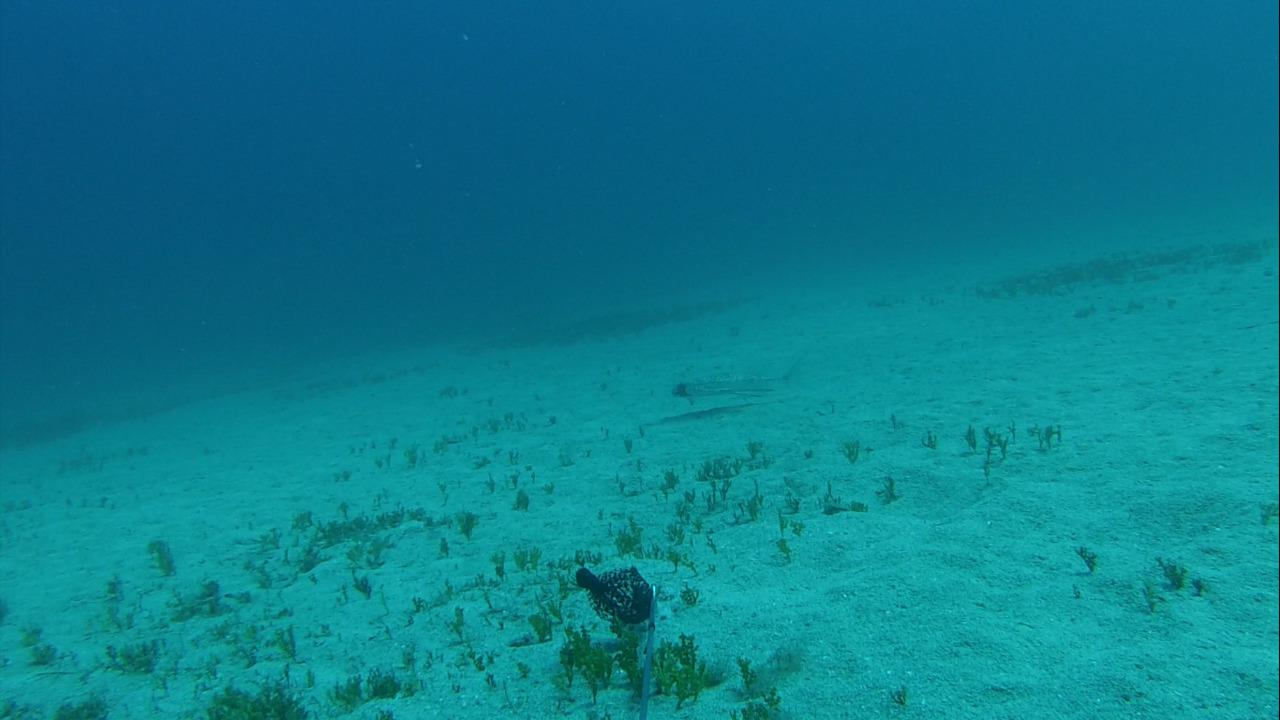dactylopterus: (665, 346, 808, 399)
